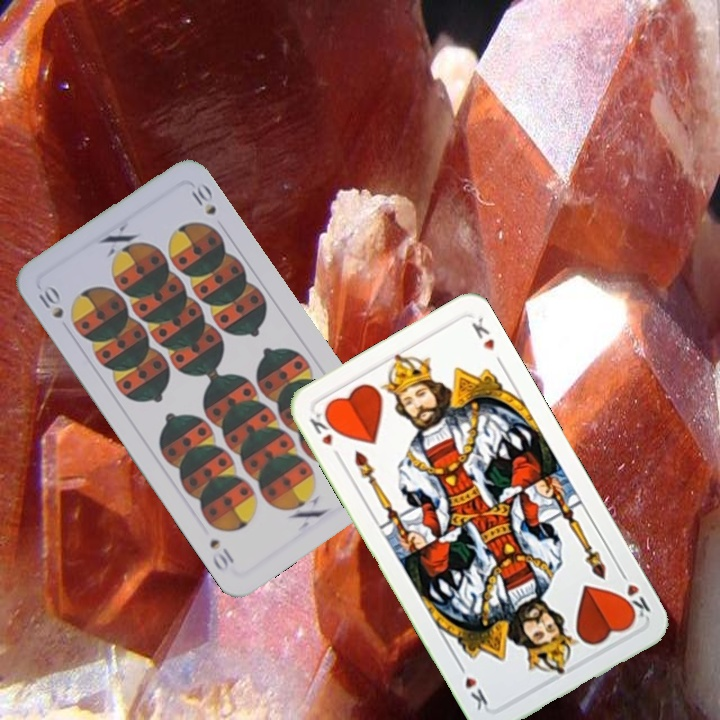HK: (305, 404, 344, 463), (615, 565, 654, 623)
S10: (34, 284, 66, 321)
